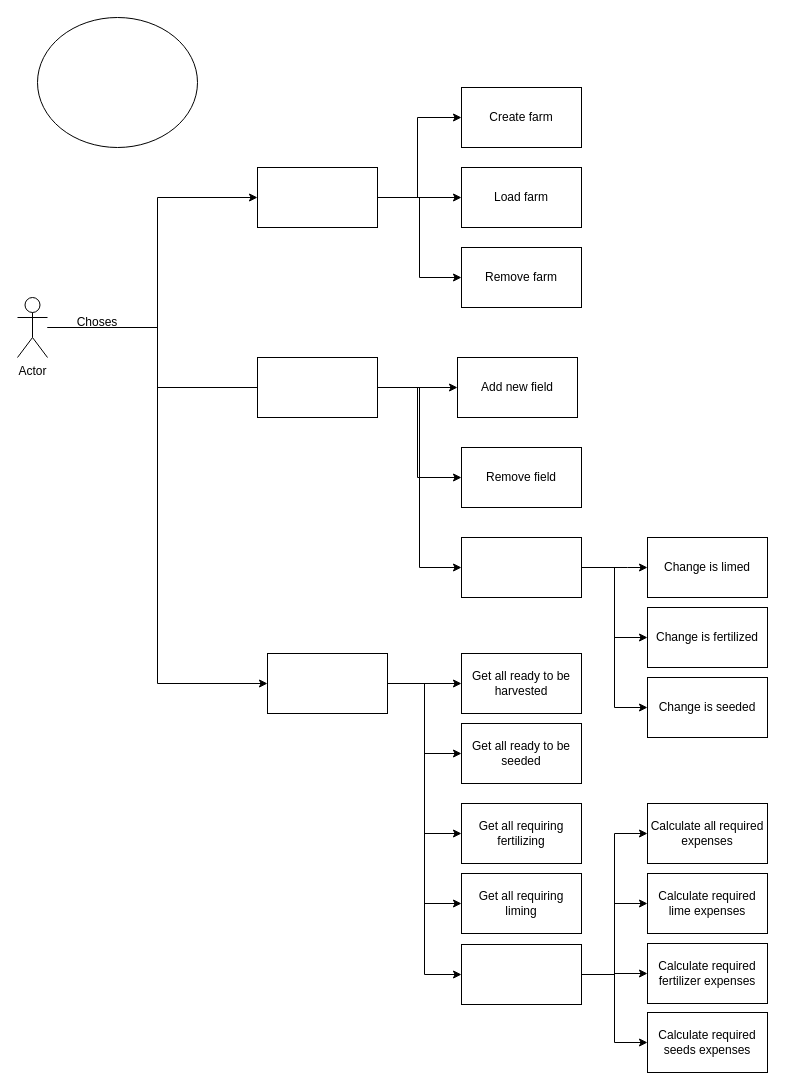
This 785x1090 diagram has some shape labels left out. Each missing label, with the centre of its shape:
"Calculate required expenses" belongs at (x=521, y=974).
"Change status of field" belongs at (x=521, y=567).
"Farm manager" belongs at (x=317, y=197).
"Field manager" belongs at (x=317, y=387).
"Function that fetches information about crop requirements dynamically" belongs at (x=117, y=82).
"Status of farm" belongs at (x=327, y=683).
